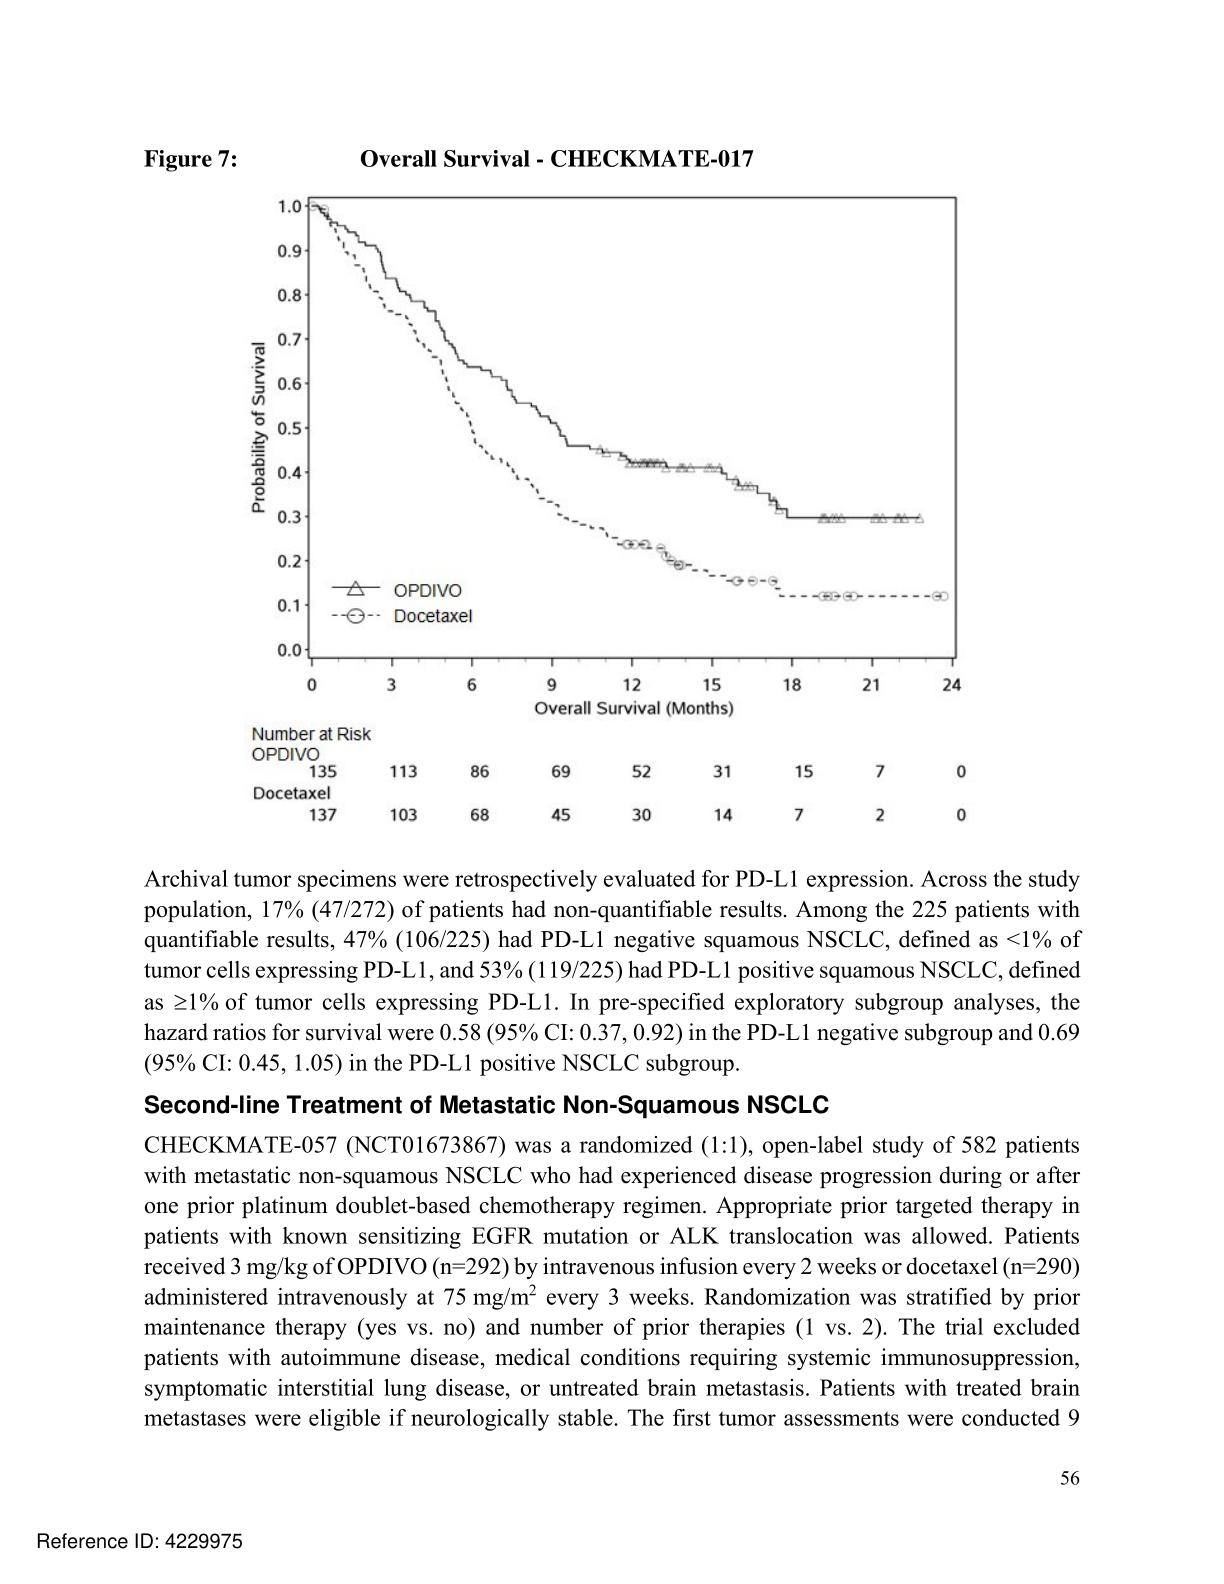nolines: (251, 744, 969, 823)
